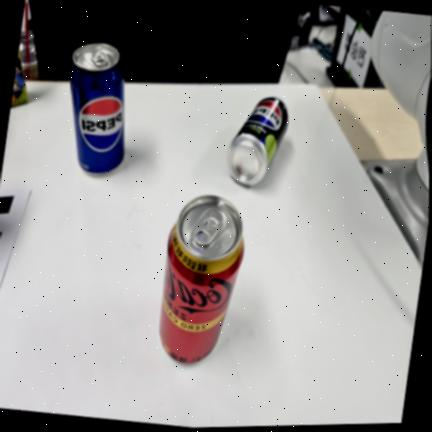can_coke_decaf: (158, 195, 245, 367)
can_pepsi: (69, 42, 123, 173)
can_pepsi_zero: (227, 97, 288, 186)
